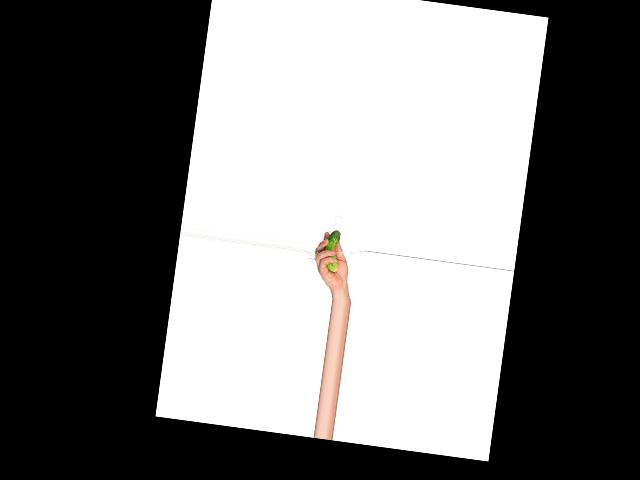cucumber: (321, 229, 342, 272)
